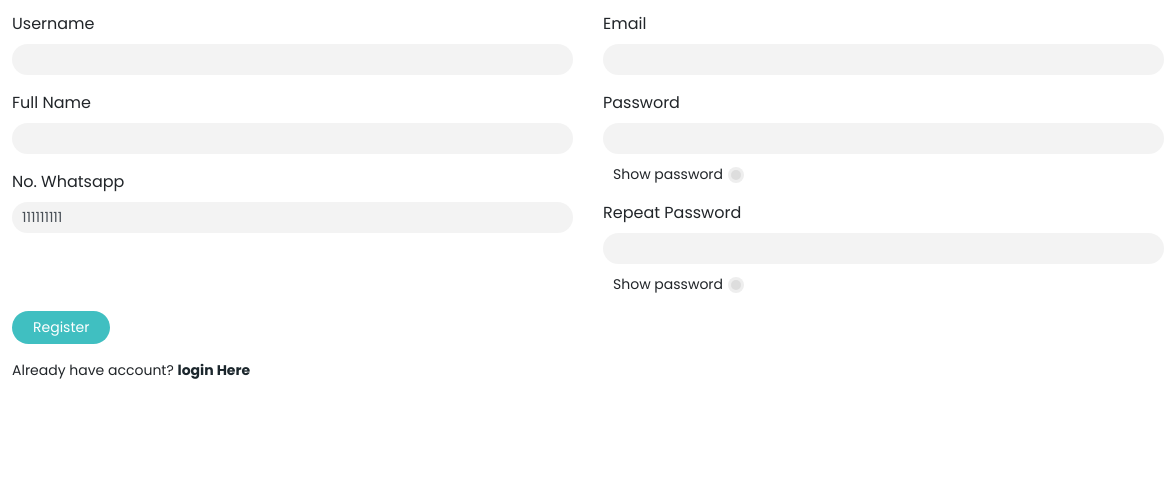
Test: Number Test › render an error when number less than 10 character
Step 1. Click the button "Register" → (61, 328), box x1=12 y1=311 x2=110 y2=344
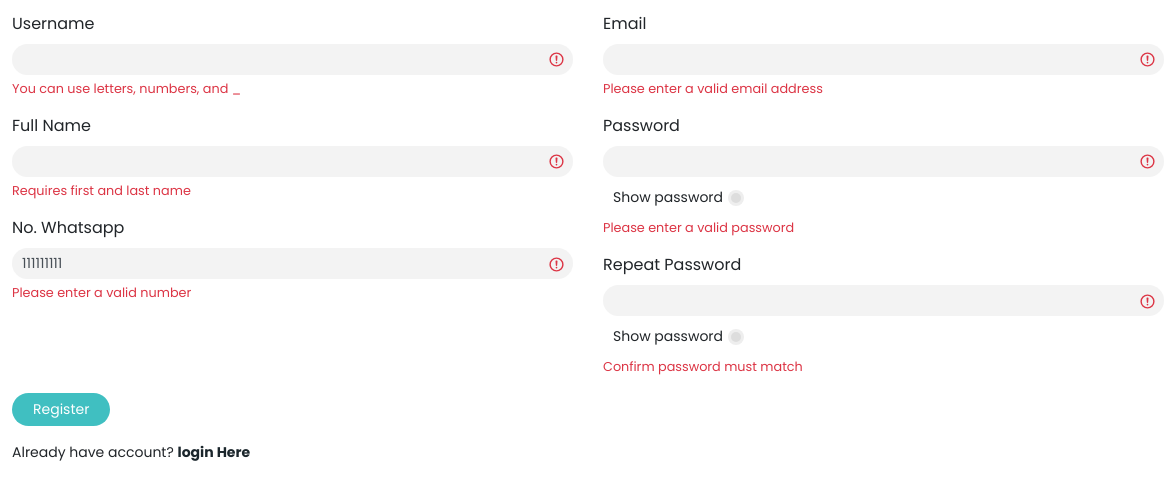
expect the text with class "error_number" reads "Please enter a valid number": met, box x1=12 y1=284 x2=191 y2=301
